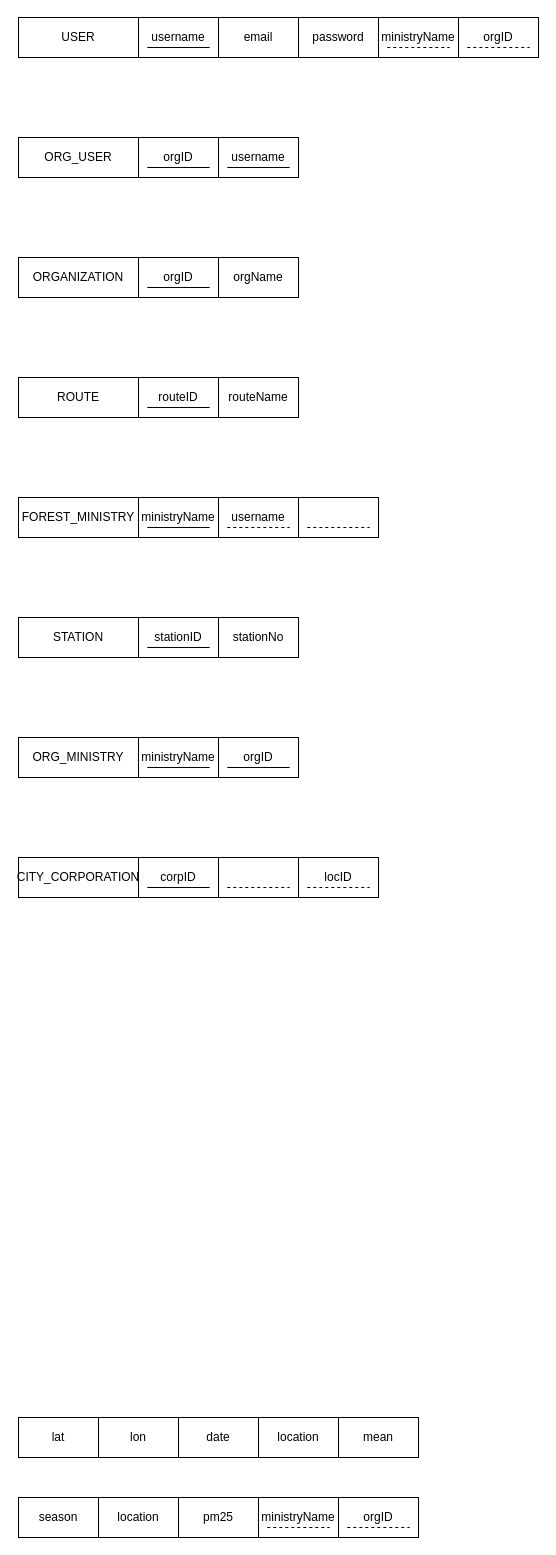
Some shapes in this 556 by 1555 pixel diagram are drawn without their labels. Here are the shapes that lost their labels. From the top down, the box of each, then its label:
(298, 496, 378, 538): locationID
(218, 856, 298, 898): minID
